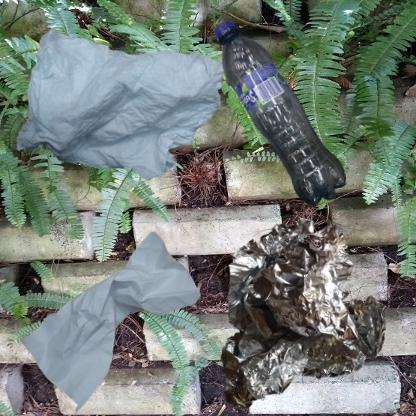aluminio: (213, 213, 392, 416)
botella: (213, 10, 354, 223)
papel: (10, 10, 252, 213), (10, 213, 215, 416)
